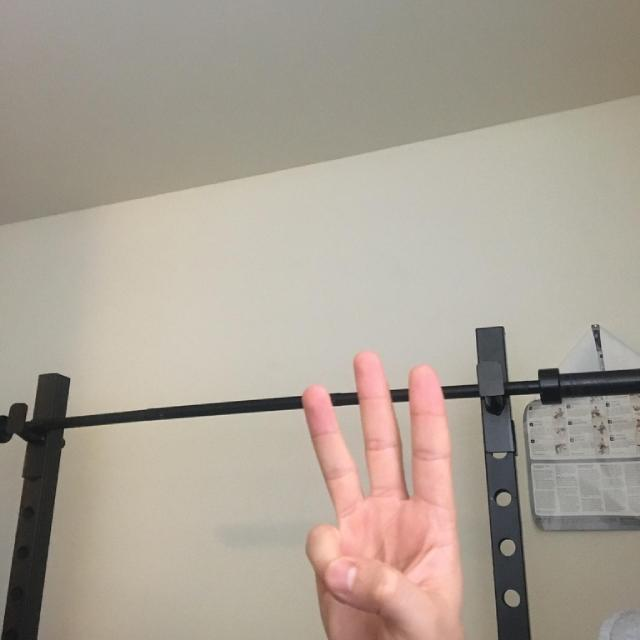W: (270, 303, 543, 640)
